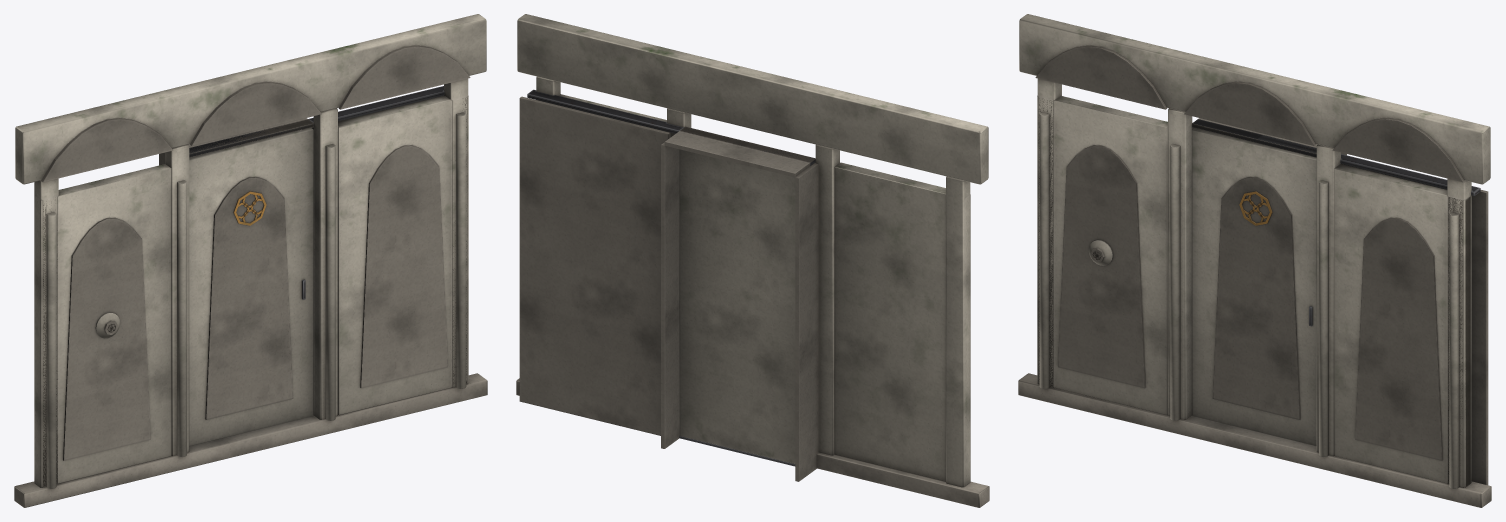
Rendered from SlidingWallPanel.fbx.
The picture shows the model from 3 angles, left to right: view 1: azimuth 30°, elevation 25°; view 2: azimuth 150°, elevation 25°; view 3: azimuth 330°, elevation 25°; orthographic projection.
Visible parts, largest first — view 1: SlidingWallPanel_Main, SlidingWallPanel_Slide0; view 2: SlidingWallPanel_Main, SlidingWallPanel_Slide0; view 3: SlidingWallPanel_Main, SlidingWallPanel_Slide0.
Boxes of the visible parts, bbox=[...] form: SlidingWallPanel_Main: bbox=[14, 14, 487, 507]; SlidingWallPanel_Slide0: bbox=[189, 128, 313, 445]; SlidingWallPanel_Main: bbox=[516, 14, 989, 507]; SlidingWallPanel_Slide0: bbox=[679, 149, 795, 463]; SlidingWallPanel_Main: bbox=[1018, 14, 1491, 507]; SlidingWallPanel_Slide0: bbox=[1192, 128, 1316, 445].
Bounding box in the file's own units: 1280 × 990 × 155.
